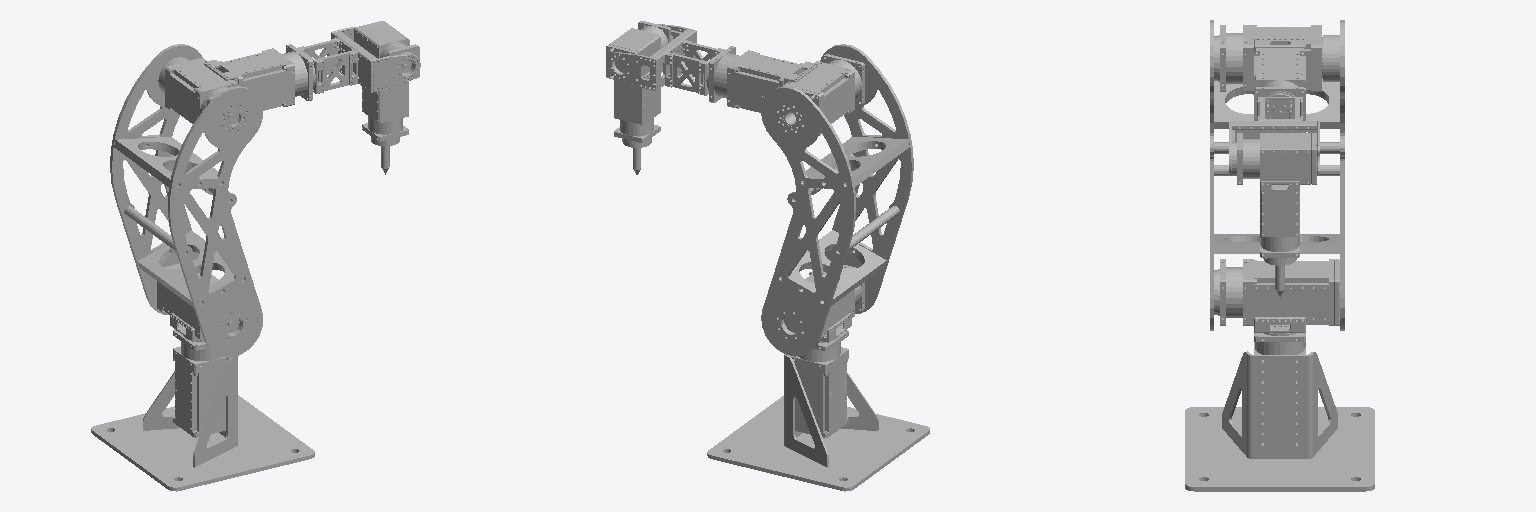
URDF robot description (cobot_v06_ep02):
<robot
  name="cobot_v06_ep02">
  <link
    name="base_link">
    <inertial>
      <origin
        xyz="0.00217738838473319 -6.7854373322016E-05 0.0243291787020343"
        rpy="0 0 0" />
      <mass
        value="2.2848382748716" />
      <inertia
        ixx="0.00899559256658763"
        ixy="-3.61745411749739E-07"
        ixz="-0.000283960756993447"
        iyy="0.00875905062897044"
        iyz="-3.36799586752836E-06"
        izz="0.0110635263026937" />
    </inertial>
    <visual>
      <origin
        xyz="0 0 0"
        rpy="0 0 0" />
      <geometry>
        <mesh
          filename="package://cobot_v06_ep02/meshes/base_link.STL" />
      </geometry>
      <material
        name="">
        <color
          rgba="0.752941176470588 0.752941176470588 0.752941176470588 1" />
      </material>
    </visual>
    <collision>
      <origin
        xyz="0 0 0"
        rpy="0 0 0" />
      <geometry>
        <mesh
          filename="package://cobot_v06_ep02/meshes/base_link.STL" />
      </geometry>
    </collision>
  </link>
  <link
    name="L1">
    <inertial>
      <origin
        xyz="1.38517610736779E-14 -0.00124312830879313 -0.000879380511920019"
        rpy="0 0 0" />
      <mass
        value="0.357343086221159" />
      <inertia
        ixx="0.000555345442771726"
        ixy="-2.52905949900775E-16"
        ixz="-2.32606240306612E-15"
        iyy="0.000169318542742595"
        iyz="3.93610551366405E-07"
        izz="0.00055141550279176" />
    </inertial>
    <visual>
      <origin
        xyz="0 0 0"
        rpy="0 0 0" />
      <geometry>
        <mesh
          filename="package://cobot_v06_ep02/meshes/L1.STL" />
      </geometry>
      <material
        name="">
        <color
          rgba="0.752941176470588 0.752941176470588 0.752941176470588 1" />
      </material>
    </visual>
    <collision>
      <origin
        xyz="0 0 0"
        rpy="0 0 0" />
      <geometry>
        <mesh
          filename="package://cobot_v06_ep02/meshes/L1.STL" />
      </geometry>
    </collision>
  </link>
  <joint
    name="J1"
    type="revolute">
    <origin
      xyz="0 0 0.184"
      rpy="0 0 0" />
    <parent
      link="base_link" />
    <child
      link="L1" />
    <axis
      xyz="0 0 1" />
    <limit
      effort="0"
      lower="-2.36"
      upper="2.36"
      velocity="0" />
  </joint>
  <link
    name="L2">
    <inertial>
      <origin
        xyz="0.145633186707181 -0.0232158403755724 0.00231800057210573"
        rpy="0 0 0" />
      <mass
        value="0.955443227629274" />
      <inertia
        ixx="0.00391892240770807"
        ixy="0.000169189691329882"
        ixz="-0.00064049606320988"
        iyy="0.0112143070348405"
        iyz="-0.000117879322063409"
        izz="0.00911813085307199" />
    </inertial>
    <visual>
      <origin
        xyz="0 0 0"
        rpy="0 0 0" />
      <geometry>
        <mesh
          filename="package://cobot_v06_ep02/meshes/L2.STL" />
      </geometry>
      <material
        name="">
        <color
          rgba="0.752941176470588 0.752941176470588 0.752941176470588 1" />
      </material>
    </visual>
    <collision>
      <origin
        xyz="0 0 0"
        rpy="0 0 0" />
      <geometry>
        <mesh
          filename="package://cobot_v06_ep02/meshes/L2.STL" />
      </geometry>
    </collision>
  </link>
  <joint
    name="J2"
    type="revolute">
    <origin
      xyz="0 0 0"
      rpy="-1.5708 -1.5708 0" />
    <parent
      link="L1" />
    <child
      link="L2" />
    <axis
      xyz="0 0 1" />
    <limit
      effort="0"
      lower="-1.05"
      upper="1.0"
      velocity="0" />
  </joint>
  <link
    name="L3">
    <inertial>
      <origin
        xyz="-8.04911692853238E-15 0.0411551782234339 -0.00517102636671961"
        rpy="0 0 0" />
      <mass
        value="0.592165788533033" />
      <inertia
        ixx="0.00174394383610596"
        ixy="2.36501494420158E-15"
        ixz="-2.06429318418401E-16"
        iyy="0.000511438022845384"
        iyz="-0.000126009191943962"
        izz="0.00150101529958188" />
    </inertial>
    <visual>
      <origin
        xyz="0 0 0"
        rpy="0 0 0" />
      <geometry>
        <mesh
          filename="package://cobot_v06_ep02/meshes/L3.STL" />
      </geometry>
      <material
        name="">
        <color
          rgba="0.752941176470588 0.752941176470588 0.752941176470588 1" />
      </material>
    </visual>
    <collision>
      <origin
        xyz="0 0 0"
        rpy="0 0 0" />
      <geometry>
        <mesh
          filename="package://cobot_v06_ep02/meshes/L3.STL" />
      </geometry>
    </collision>
  </link>
  <joint
    name="J3"
    type="revolute">
    <origin
      xyz="0.27203 0 0"
      rpy="0 0 0" />
    <parent
      link="L2" />
    <child
      link="L3" />
    <axis
      xyz="0 0 1" />
    <limit
      effort="0"
      lower="-2.36"
      upper="1.08"
      velocity="0" />
  </joint>
  <link
    name="L4">
    <inertial>
      <origin
        xyz="-8.79736283820876E-11 0.00431765216640698 0.047353200823643"
        rpy="0 0 0" />
      <mass
        value="0.0738338184370654" />
      <inertia
        ixx="0.000110141415106392"
        ixy="2.35457241799737E-13"
        ixz="1.23653496888722E-13"
        iyy="6.70589921720905E-05"
        iyz="-9.0731265290884E-06"
        izz="6.91908249212063E-05" />
    </inertial>
    <visual>
      <origin
        xyz="0 0 0"
        rpy="0 0 0" />
      <geometry>
        <mesh
          filename="package://cobot_v06_ep02/meshes/L4.STL" />
      </geometry>
      <material
        name="">
        <color
          rgba="0.752941176470588 0.752941176470588 0.752941176470588 1" />
      </material>
    </visual>
    <collision>
      <origin
        xyz="0 0 0"
        rpy="0 0 0" />
      <geometry>
        <mesh
          filename="package://cobot_v06_ep02/meshes/L4.STL" />
      </geometry>
    </collision>
  </link>
  <joint
    name="J4"
    type="revolute">
    <origin
      xyz="0 0.141 0"
      rpy="-1.5708 0 0" />
    <parent
      link="L3" />
    <child
      link="L4" />
    <axis
      xyz="0 0 1" />
    <limit
      effort="0"
      lower="-2.87979"
      upper="2.87979"
      velocity="0" />
  </joint>
  <link
    name="L5">
    <inertial>
      <origin
        xyz="6.32827096280764E-09 0.0319609016503962 -0.00193412005150011"
        rpy="0 0 0" />
      <mass
        value="0.278144093198247" />
      <inertia
        ixx="0.00048972658148637"
        ixy="5.62426298534612E-11"
        ixz="-7.16189121480448E-11"
        iyy="0.000142232558041777"
        iyz="-1.71872472866497E-05"
        izz="0.000426208677337696" />
    </inertial>
    <visual>
      <origin
        xyz="0 0 0"
        rpy="0 0 0" />
      <geometry>
        <mesh
          filename="package://cobot_v06_ep02/meshes/L5.STL" />
      </geometry>
      <material
        name="">
        <color
          rgba="0.752941176470588 0.752941176470588 0.752941176470588 1" />
      </material>
    </visual>
    <collision>
      <origin
        xyz="0 0 0"
        rpy="0 0 0" />
      <geometry>
        <mesh
          filename="package://cobot_v06_ep02/meshes/L5.STL" />
      </geometry>
    </collision>
  </link>
  <joint
    name="J5"
    type="revolute">
    <origin
      xyz="0 0 0.109"
      rpy="1.5708 -1.5708 0" />
    <parent
      link="L4" />
    <child
      link="L5" />
    <axis
      xyz="0 0 1" />
    <limit
      effort="0"
      lower="-3.59"
      upper="0.4499999864"
      velocity="0" />
  </joint>
  <link
    name="L6">
    <inertial>
      <origin
        xyz="-2.77555756156289E-17 2.99688812578288E-17 0.0108682008368201"
        rpy="0 0 0" />
      <mass
        value="0.0078212567104996" />
      <inertia
        ixx="1.64883007923566E-06"
        ixy="-2.89628104197671E-37"
        ixz="3.61876651126436E-23"
        iyy="1.64883007923566E-06"
        iyz="3.3142485646066E-22"
        izz="7.72942239399818E-07" />
    </inertial>
    <visual>
      <origin
        xyz="0 0 0"
        rpy="0 0 0" />
      <geometry>
        <mesh
          filename="package://cobot_v06_ep02/meshes/L6.STL" />
      </geometry>
      <material
        name="">
        <color
          rgba="0.752941176470588 0.752941176470588 0.752941176470588 1" />
      </material>
    </visual>
    <collision>
      <origin
        xyz="0 0 0"
        rpy="0 0 0" />
      <geometry>
        <mesh
          filename="package://cobot_v06_ep02/meshes/L6.STL" />
      </geometry>
    </collision>
  </link>
  <joint
    name="J6"
    type="continuous">
    <origin
      xyz="0 0.111 0"
      rpy="-1.5708 0 0" />
    <parent
      link="L5" />
    <child
      link="L6" />
    <axis
      xyz="0 0 1" />
    <limit
      effort="0"
      velocity="0" />
  </joint>
  <link
    name="tool0">
    <inertial>
      <origin
        xyz="0 0 0"
        rpy="0 0 0" />
      <mass
        value="9.9999999999978E-10" />
      <inertia
        ixx="1.66666666666612E-18"
        ixy="2.44409116806342E-34"
        ixz="-1.12991457713403E-34"
        iyy="1.66666666666593E-18"
        iyz="-1.6398557858842E-35"
        izz="1.66666666666612E-18" />
    </inertial>
    <visual>
      <origin
        xyz="0 0 0"
        rpy="0 0 0" />
      <geometry>
        <mesh
          filename="package://cobot_v06_ep02/meshes/tool0.STL" />
      </geometry>
      <material
        name="">
        <color
          rgba="0.752941176470588 0.752941176470588 0.752941176470588 1" />
      </material>
    </visual>
    <collision>
      <origin
        xyz="0 0 0"
        rpy="0 0 0" />
      <geometry>
        <mesh
          filename="package://cobot_v06_ep02/meshes/tool0.STL" />
      </geometry>
    </collision>
  </link>
  <joint
    name="J_tool"
    type="fixed">
    <origin
      xyz="0 0 0.05"
      rpy="0 0 0" />
    <parent
      link="L6" />
    <child
      link="tool0" />
    <axis
      xyz="0 0 0" />
  </joint>
</robot>

--- Facts derived from the render (not from the file) ---
Views: 3 orthographic renders of the robot side by side, from view 1: azimuth 30°, elevation 25°; view 2: azimuth 150°, elevation 25°; view 3: azimuth 270°, elevation 25°.
Model cobot_v06_ep02 with 8 links and 7 joints (5 revolute, 1 continuous, 1 fixed), rooted at base_link, posed all joints at 0.
Visible links, largest first — view 1: L2, base_link, L3, L4, L5, L1; view 2: L2, base_link, L3, L5, L4, L1; view 3: base_link, L2, L1, L3, L5, L4.
Boxes of the visible links, x1,y1,x2,y2 form: L2: [110, 44, 262, 357]; base_link: [91, 329, 314, 491]; L3: [165, 44, 315, 132]; L4: [297, 27, 420, 93]; L5: [354, 21, 419, 142]; L1: [157, 260, 240, 341]; L2: [761, 44, 913, 356]; base_link: [707, 330, 929, 491]; L3: [706, 46, 864, 135]; L5: [606, 21, 670, 143]; L4: [612, 24, 724, 95]; L1: [783, 265, 864, 342]; base_link: [1185, 333, 1374, 491]; L2: [1210, 20, 1344, 330]; L1: [1214, 259, 1339, 332]; L3: [1214, 25, 1322, 132]; L5: [1232, 133, 1316, 260]; L4: [1229, 97, 1319, 174].
Size in the robot's own frame: 0.3741 by 0.2 by 0.4959 metres.
8 mesh visuals loaded from 8 distinct referenced files (8 binary STL).